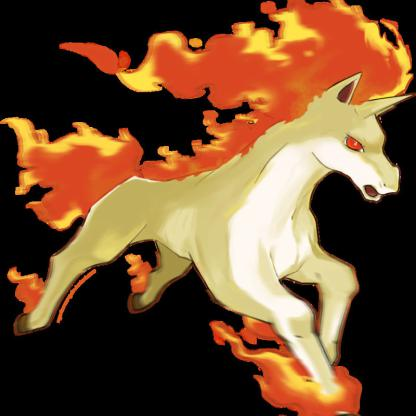Rapidash: (5, 1, 416, 416)
